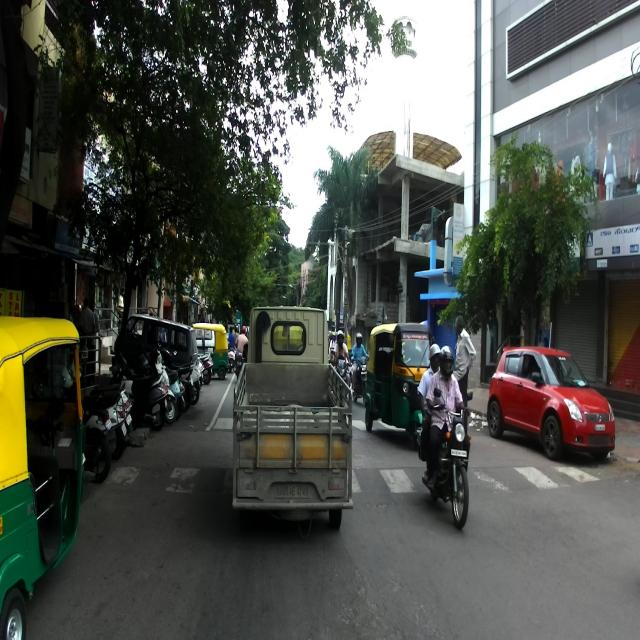Car_Maruti-Suzuki: (487, 344, 615, 465), (112, 312, 196, 396)
autorickshaw: (0, 314, 85, 639), (364, 321, 436, 445)
motorcycle_TVS: (418, 388, 473, 531)
scooter: (95, 387, 129, 461), (108, 378, 135, 437), (154, 361, 176, 420), (139, 378, 167, 424), (169, 366, 188, 414), (187, 358, 201, 405), (202, 354, 212, 384)
truck: (229, 304, 352, 533)
